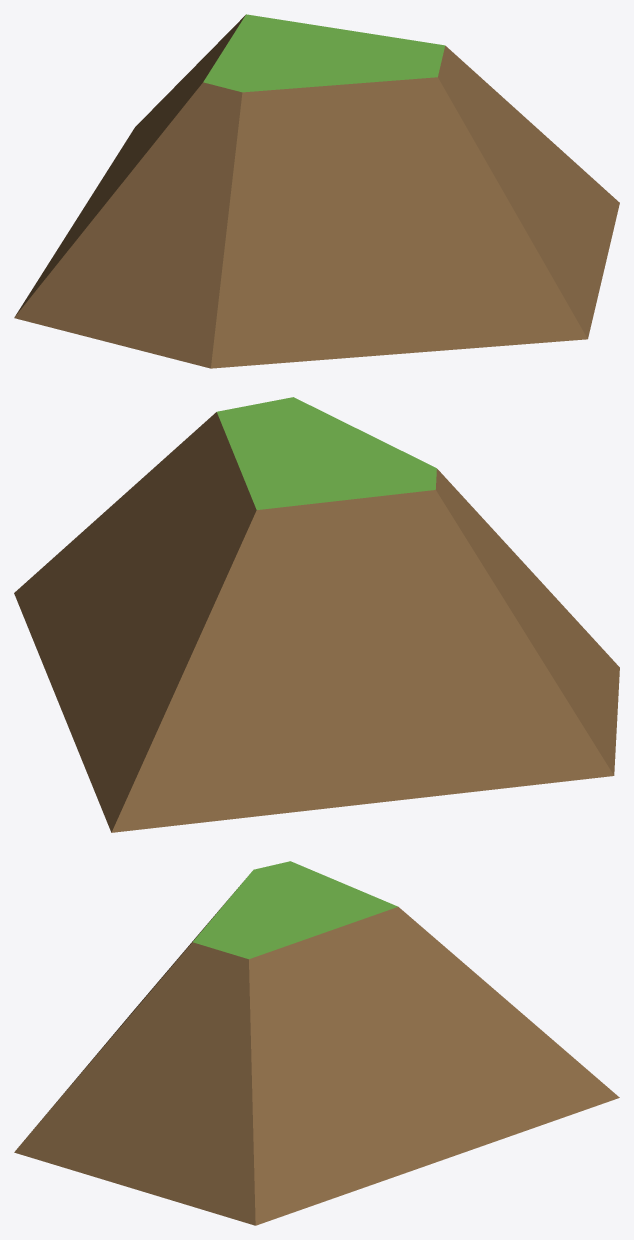
Rendered from rock_smallC.glb.
3 views of the same model, one above another, from view 1: azimuth 30°, elevation 25°; view 2: azimuth 150°, elevation 25°; view 3: azimuth 270°, elevation 25° (orthographic). The views are drawn at different scales.
Visible parts, largest first — view 1: rock_smallC; view 2: rock_smallC; view 3: rock_smallC.
Boxes of the visible parts, box(x1,y1,x2,y2) form: rock_smallC: box(14, 14, 619, 368); rock_smallC: box(14, 397, 619, 832); rock_smallC: box(14, 861, 619, 1225).
Size of the model in its own units: 0.3608 by 0.1227 by 0.3608.
